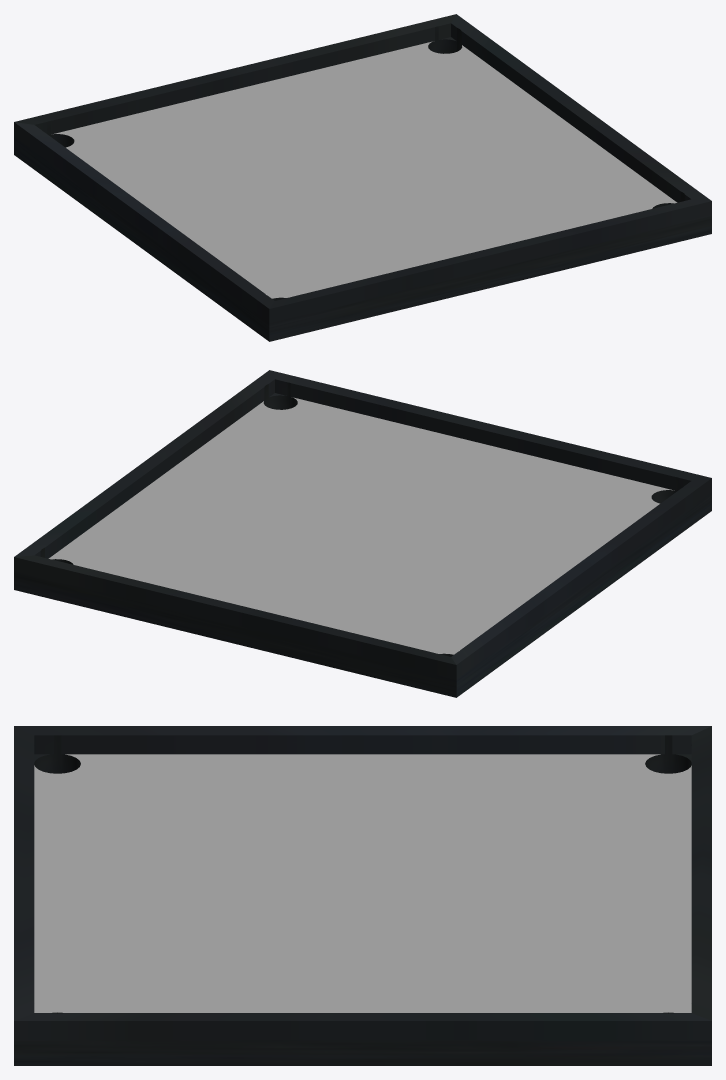
Rendered from carrom board02.fbx.
3 renders of one model, top to bottom at view 1: azimuth 30°, elevation 25°; view 2: azimuth 150°, elevation 25°; view 3: azimuth 270°, elevation 25°, orthographic. The views are drawn at different scales.
Parts seen in each view (by area): view 1: pCube4; view 2: pCube4; view 3: pCube4.
Boxes of the visible parts, bbox=[...] form: pCube4: bbox=[14, 14, 711, 341]; pCube4: bbox=[14, 370, 711, 697]; pCube4: bbox=[14, 726, 711, 1065].
Size of the model in its own units: 5.55 by 0.3942 by 5.55.
Materials: 2 (1 with a texture image).
